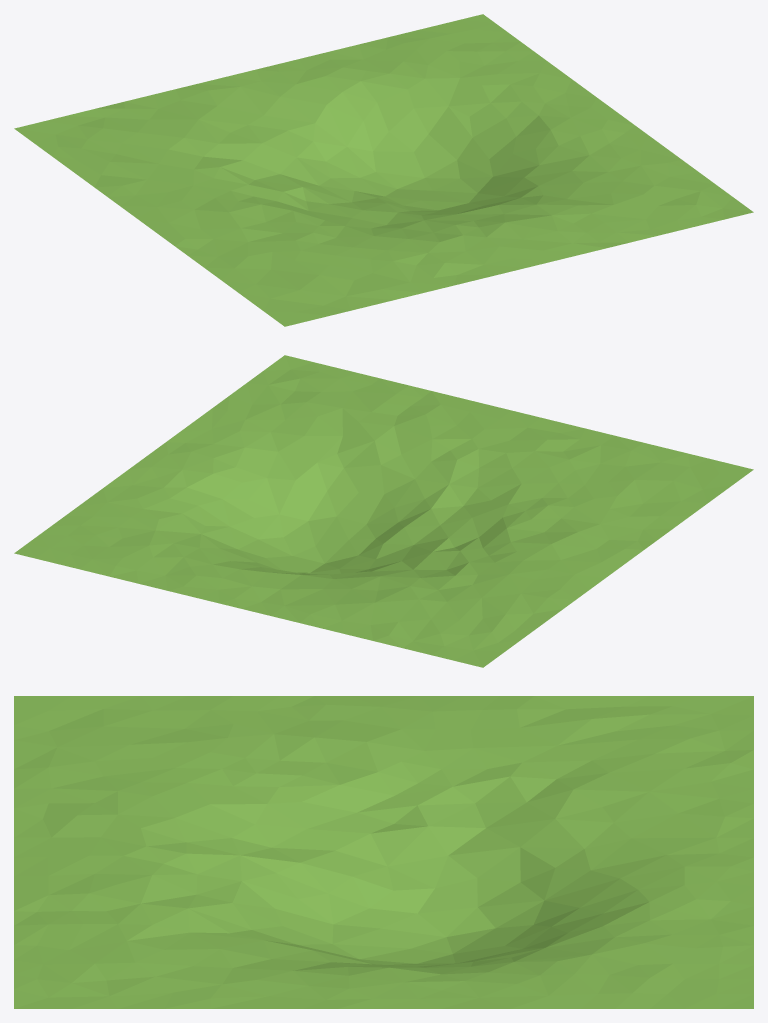
File: MT_Terrain_M_b_08_LOD.fbx
The picture shows the model from 3 angles, top to bottom: view 1: azimuth 30°, elevation 25°; view 2: azimuth 150°, elevation 25°; view 3: azimuth 270°, elevation 25°; orthographic projection. The views are drawn at different scales.
Parts seen in each view (by area): view 1: MT_Terrain_M_b_08_LOD0; view 2: MT_Terrain_M_b_08_LOD0; view 3: MT_Terrain_M_b_08_LOD0.
Boxes of the visible parts, x1,y1,x2,y2 form: MT_Terrain_M_b_08_LOD0: (14,14,753,326); MT_Terrain_M_b_08_LOD0: (14,355,753,667); MT_Terrain_M_b_08_LOD0: (14,696,753,1008).
Size of what is drawn, in the model's own units: 5000 by 474 by 5000.
